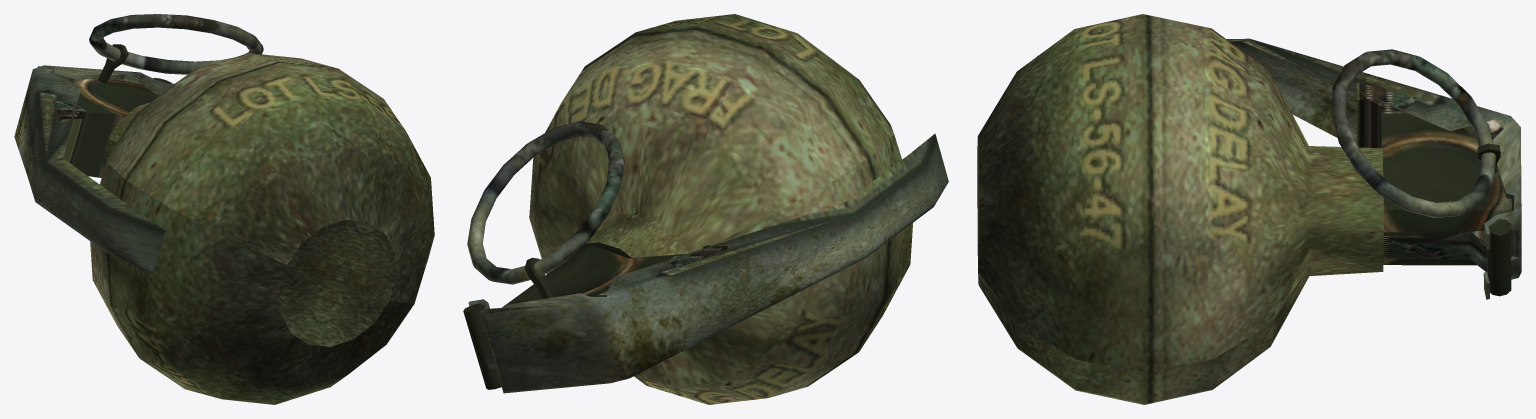
The model's file is frag_1st.glb.
3 renders of one model, left to right at view 1: azimuth 30°, elevation 25°; view 2: azimuth 150°, elevation 25°; view 3: azimuth 270°, elevation 25°, orthographic. The views are drawn at different scales.
Parts seen in each view (by area): view 1: _frag_1st; view 2: _frag_1st; view 3: _frag_1st.
Boxes of the visible parts, x1,y1,x2,y2 form: _frag_1st: [14, 14, 434, 404]; _frag_1st: [463, 14, 948, 404]; _frag_1st: [977, 14, 1521, 404].
Bounding box in the file's own units: 0.1148 × 0.1061 × 0.1467.
Materials: 1 (1 with a texture image).
